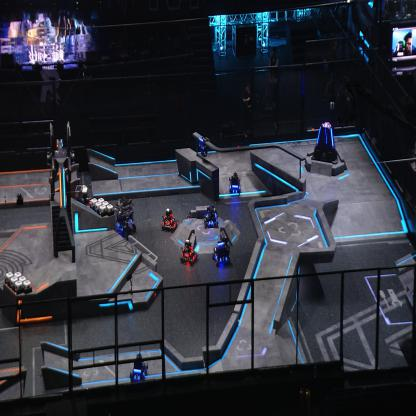car: (114, 195, 134, 230), (130, 351, 148, 384), (212, 235, 231, 266), (74, 189, 92, 216), (180, 237, 198, 264), (160, 207, 178, 233), (204, 204, 218, 228), (228, 170, 241, 194)
